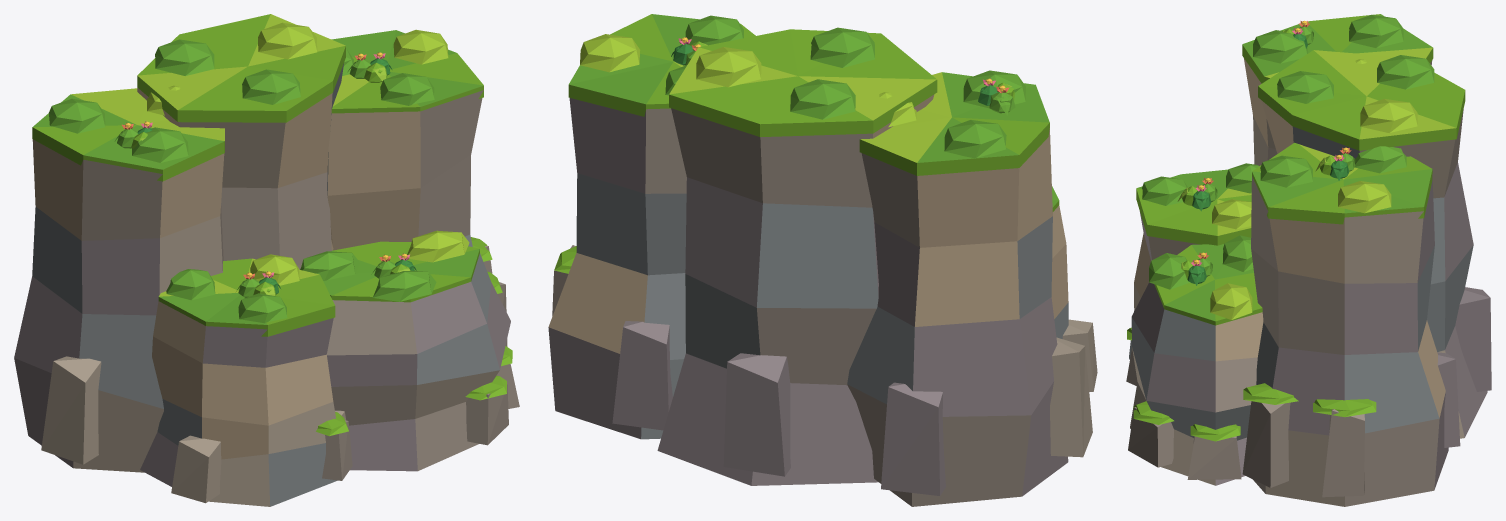
Rendered from cliff_terrace.glb.
The picture shows the model from 3 angles, left to right: view 1: azimuth 30°, elevation 25°; view 2: azimuth 150°, elevation 25°; view 3: azimuth 270°, elevation 25°; orthographic projection. The views are drawn at different scales.
Visible parts, largest first — view 1: cliff_terrace_MOBILE_LOD1; view 2: cliff_terrace_MOBILE_LOD1; view 3: cliff_terrace_MOBILE_LOD1.
Boxes of the visible parts, x1,y1,x2,y2 form: cliff_terrace_MOBILE_LOD1: (14, 14, 519, 506); cliff_terrace_MOBILE_LOD1: (548, 14, 1097, 506); cliff_terrace_MOBILE_LOD1: (1126, 14, 1491, 506).
Bounding box in the file's own units: 11.07 × 7.89 × 7.95.
